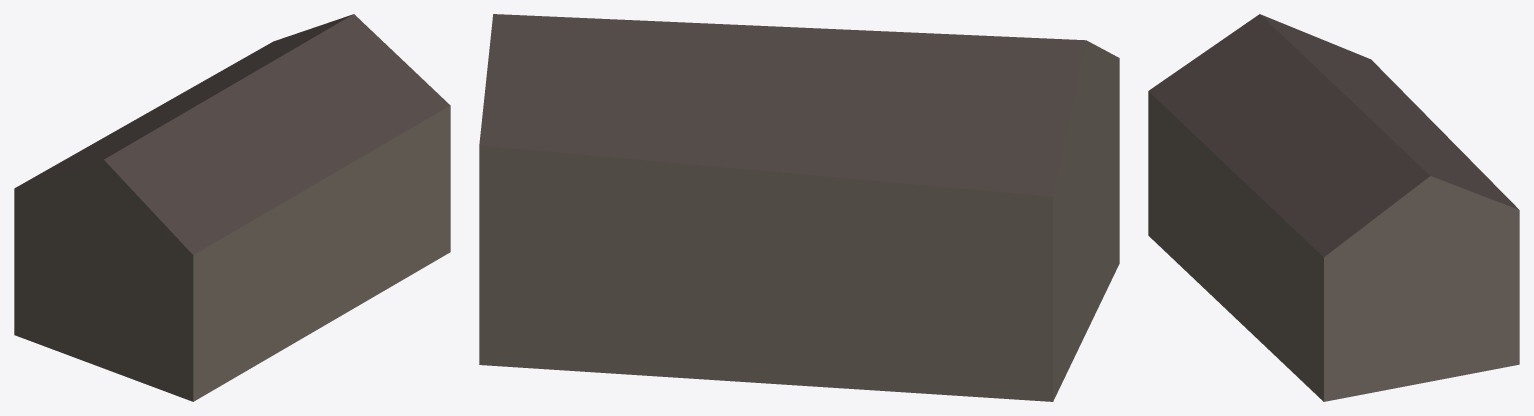
3 views of the same model, side by side, from view 1: azimuth 30°, elevation 25°; view 2: azimuth 150°, elevation 25°; view 3: azimuth 270°, elevation 25° (orthographic). The views are drawn at different scales.
Visible parts, largest first — view 1: HP-w143542884; view 2: HP-w143542884; view 3: HP-w143542884.
Part boxes in pixels (<box>): HP-w143542884: <box>14,14,450,401</box>; HP-w143542884: <box>479,14,1119,401</box>; HP-w143542884: <box>1148,14,1519,401</box>.
Bounding box in the file's own units: 17.64 × 8.54 × 13.98.
